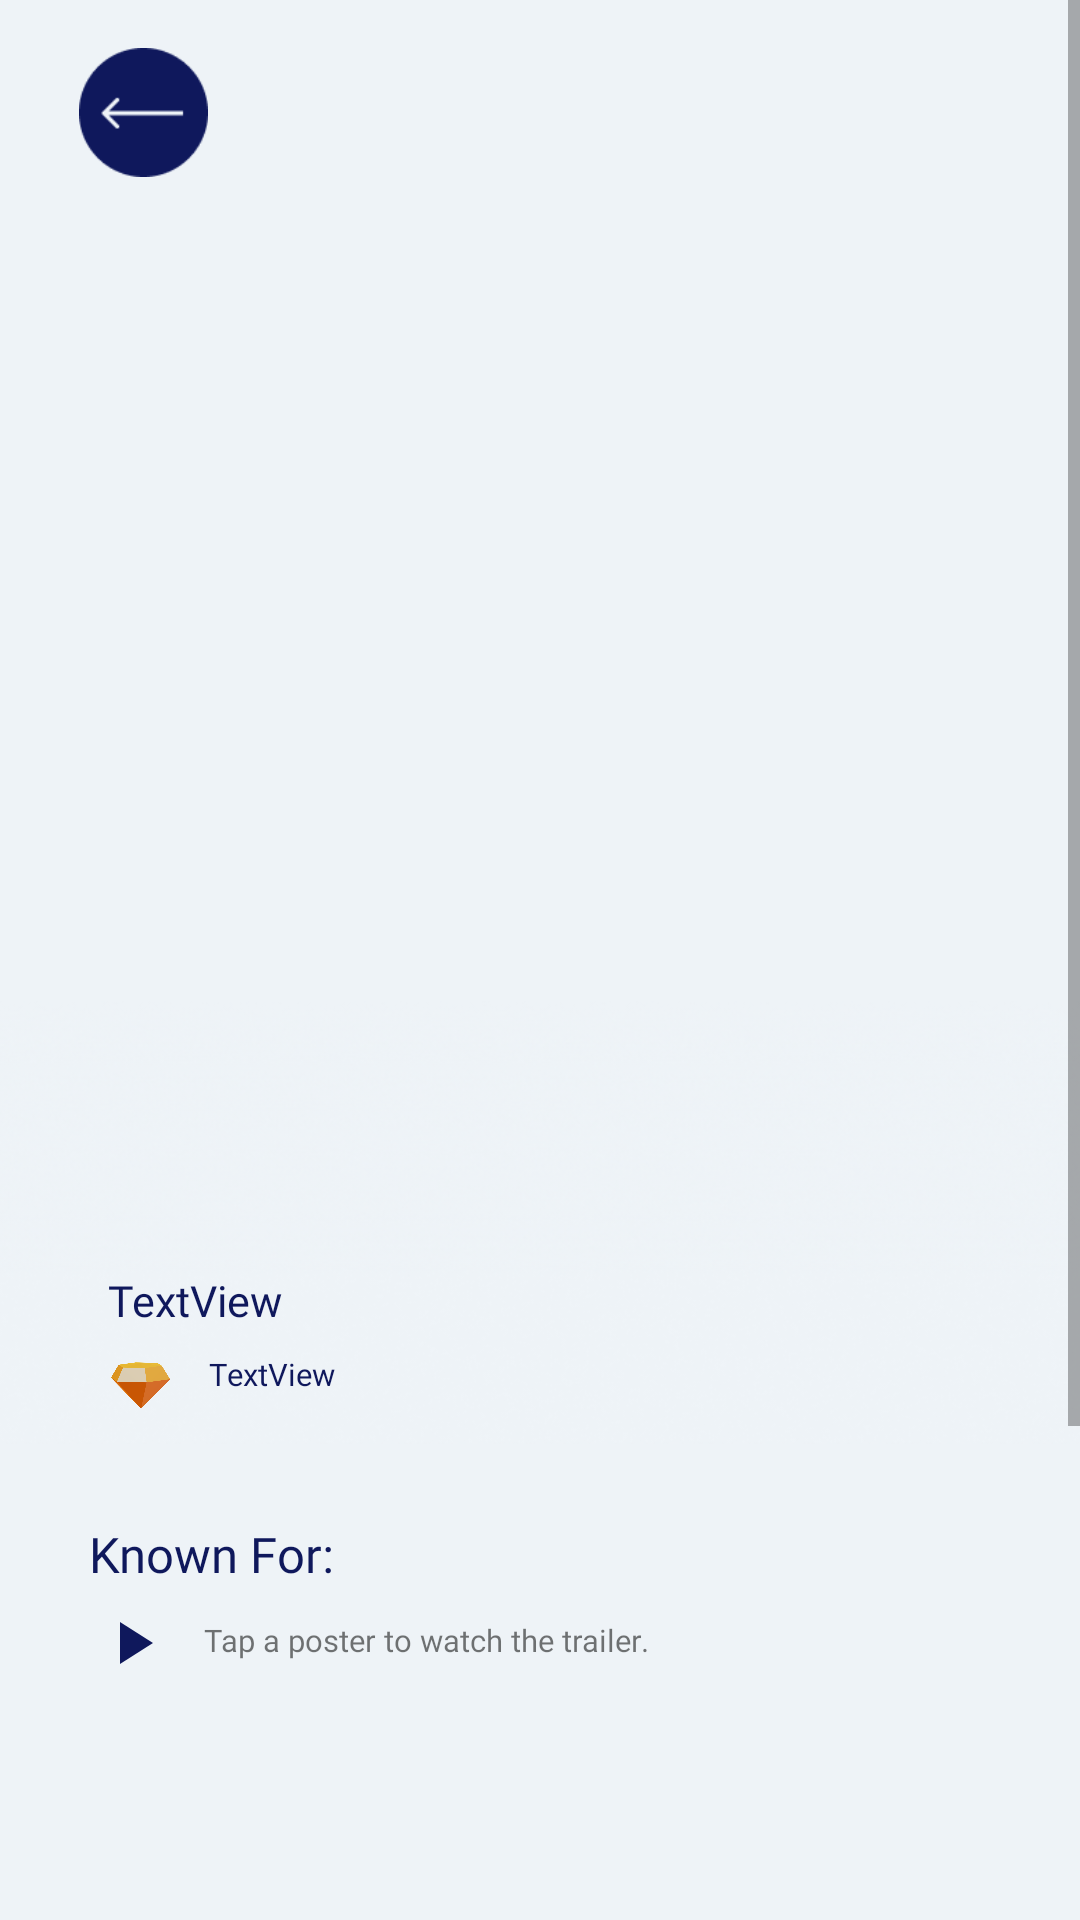

Point at icon controls on the screen. Image size 1080 x 1920, points as [x,y].
back to main: [143,112]
play arrow: [136,1643]
